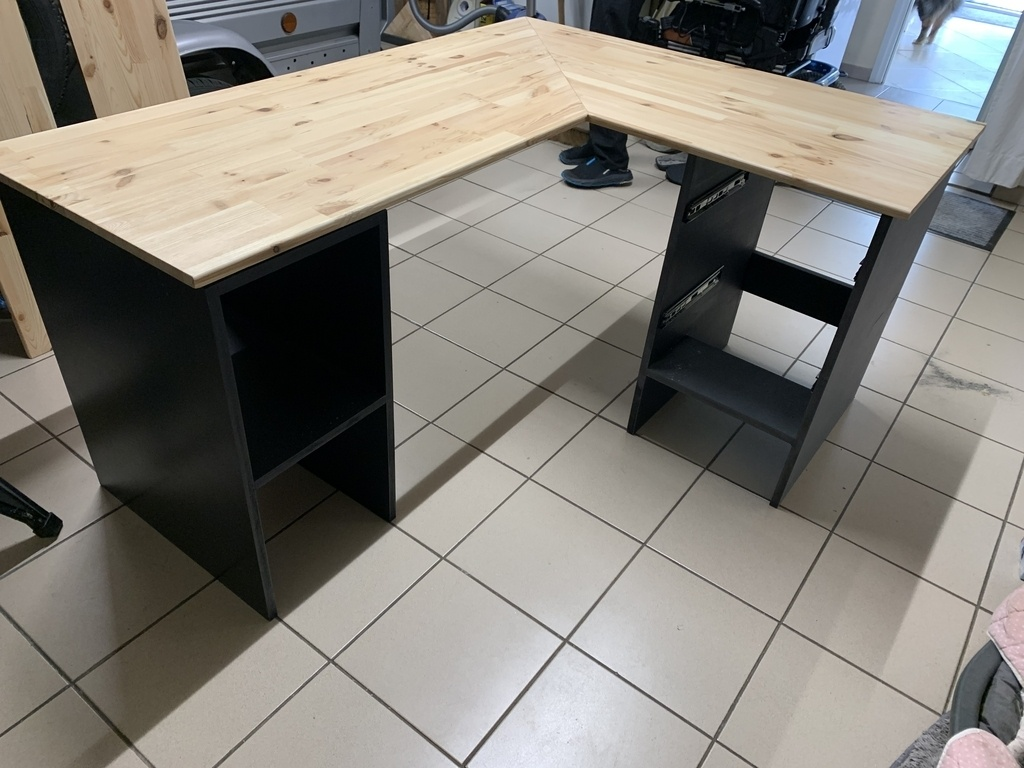Table: (225, 109, 537, 247)
